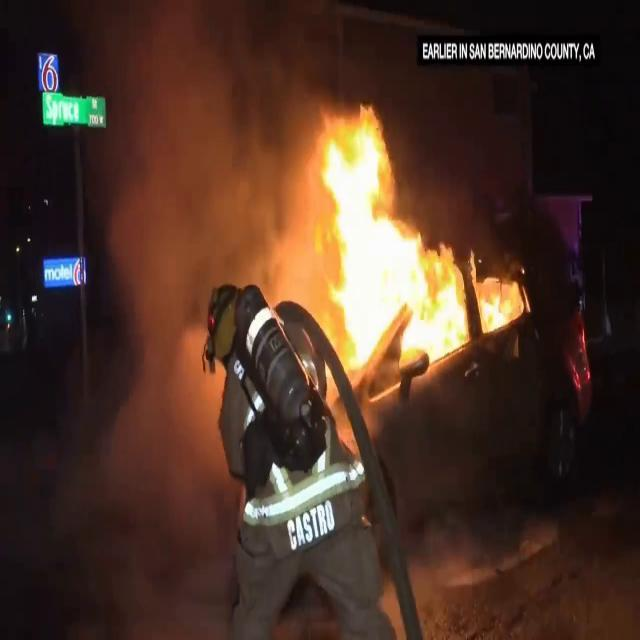Fire: (311, 104, 521, 377)
Smoke: (90, 1, 328, 282)
